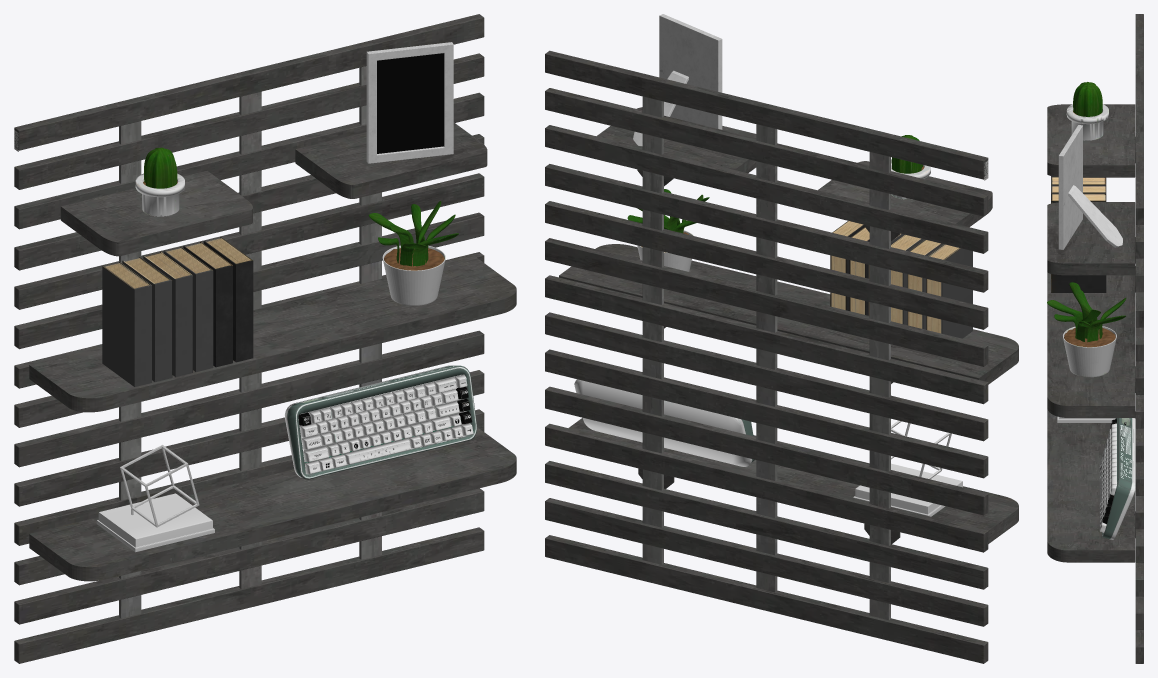
The model's file is modern_wall_shelves.glb.
The picture shows the model from 3 angles, left to right: view 1: azimuth 30°, elevation 25°; view 2: azimuth 150°, elevation 25°; view 3: azimuth 270°, elevation 25°; orthographic projection. The views are drawn at different scales.
Visible parts, largest first — view 1: Shelves_Shelves_0, Books_Books_0, Keyboard_Keyboard_0, Frame_Frame_0, Cactus_Plant and cactus_0, Cube_Cube_0; view 2: Shelves_Shelves_0, Books_Books_0, Frame_Frame_0, Keyboard_Keyboard_0, Cube_Cube_0, Cactus_Plant and cactus_0; view 3: Shelves_Shelves_0, Cactus_Plant and cactus_0, Keyboard_Keyboard_0, Frame_Frame_0, Books_Books_0, Cube_Cube_0.
Boxes of the visible parts, x1,y1,x2,y2 form: Shelves_Shelves_0: (14, 14, 516, 663); Books_Books_0: (102, 237, 253, 386); Keyboard_Keyboard_0: (285, 365, 476, 479); Frame_Frame_0: (366, 42, 453, 163); Cactus_Plant and cactus_0: (135, 147, 458, 305); Cube_Cube_0: (96, 445, 214, 552); Shelves_Shelves_0: (545, 50, 1018, 663); Books_Books_0: (830, 221, 972, 338); Frame_Frame_0: (633, 14, 722, 146); Keyboard_Keyboard_0: (574, 379, 754, 466); Cube_Cube_0: (853, 420, 962, 516); Cactus_Plant and cactus_0: (627, 135, 930, 271); Shelves_Shelves_0: (1047, 14, 1143, 663); Cactus_Plant and cactus_0: (1047, 82, 1126, 377); Keyboard_Keyboard_0: (1099, 418, 1135, 539); Frame_Frame_0: (1058, 125, 1122, 249); Books_Books_0: (1051, 176, 1106, 292); Cube_Cube_0: (1057, 416, 1115, 422).
Bounding box in the file's own units: 2.48 × 2.84 × 0.5222.
6 materials, 6 textured.
